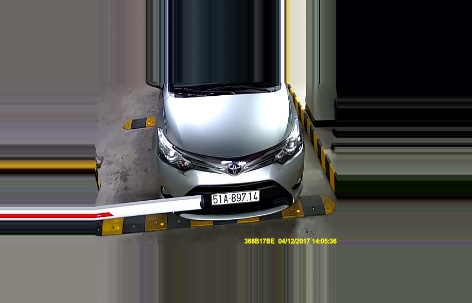plate: (207, 187, 261, 206)
